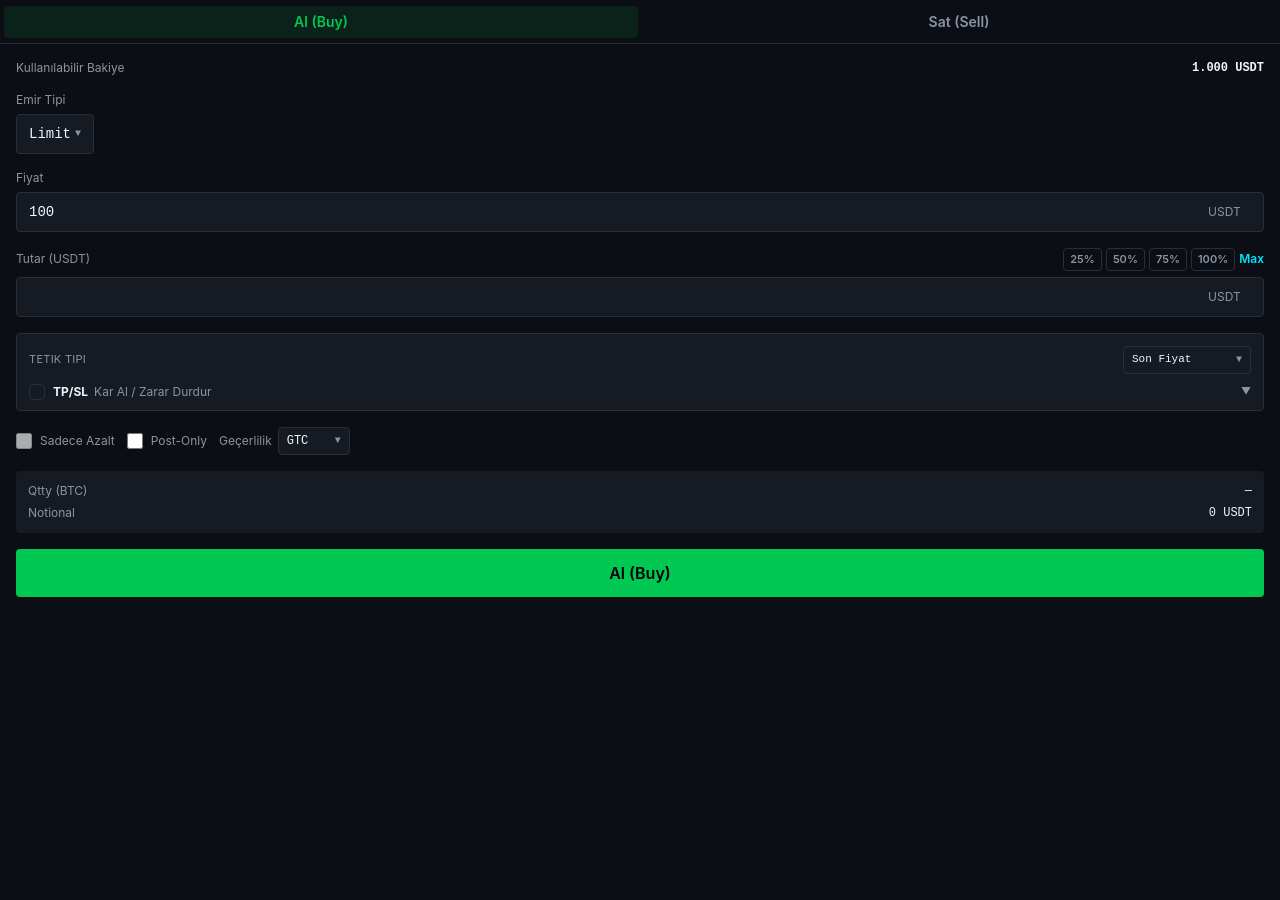
it: TradingPanel spot mode › waits for confirmation when confirmations are enabled
Type "500" into the field named "Order amount".
click(640, 296); type("500")  # box [16,276,1264,316]
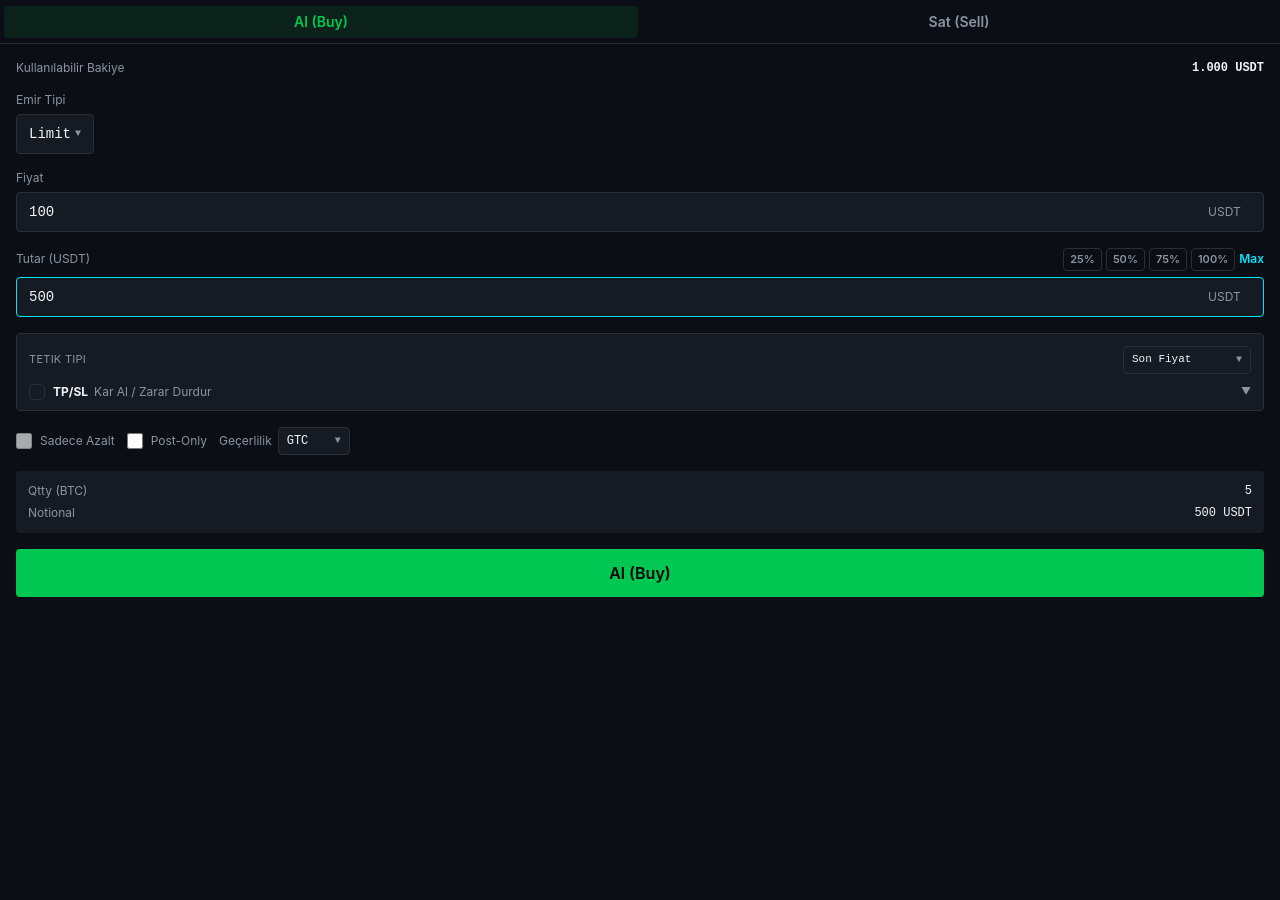
Click the button "Al (Buy)" below "Notional".
click(640, 572)  # box [16,548,1264,596]
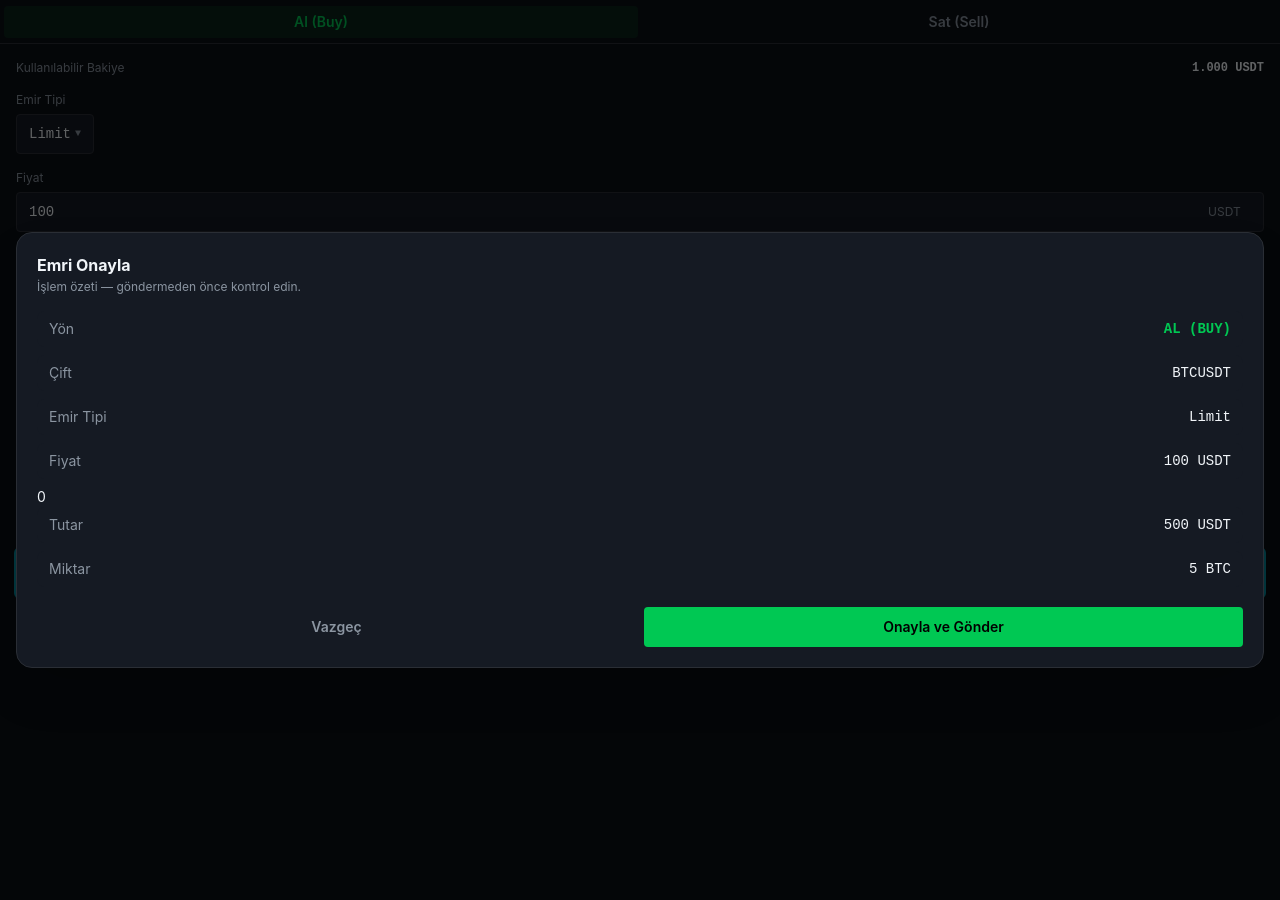
Check: the heading "Emri Onayla" is shown, box [37,255,131,275]
Click the button "Onayla ve Gönder".
click(944, 627)  # box [644,607,1243,647]
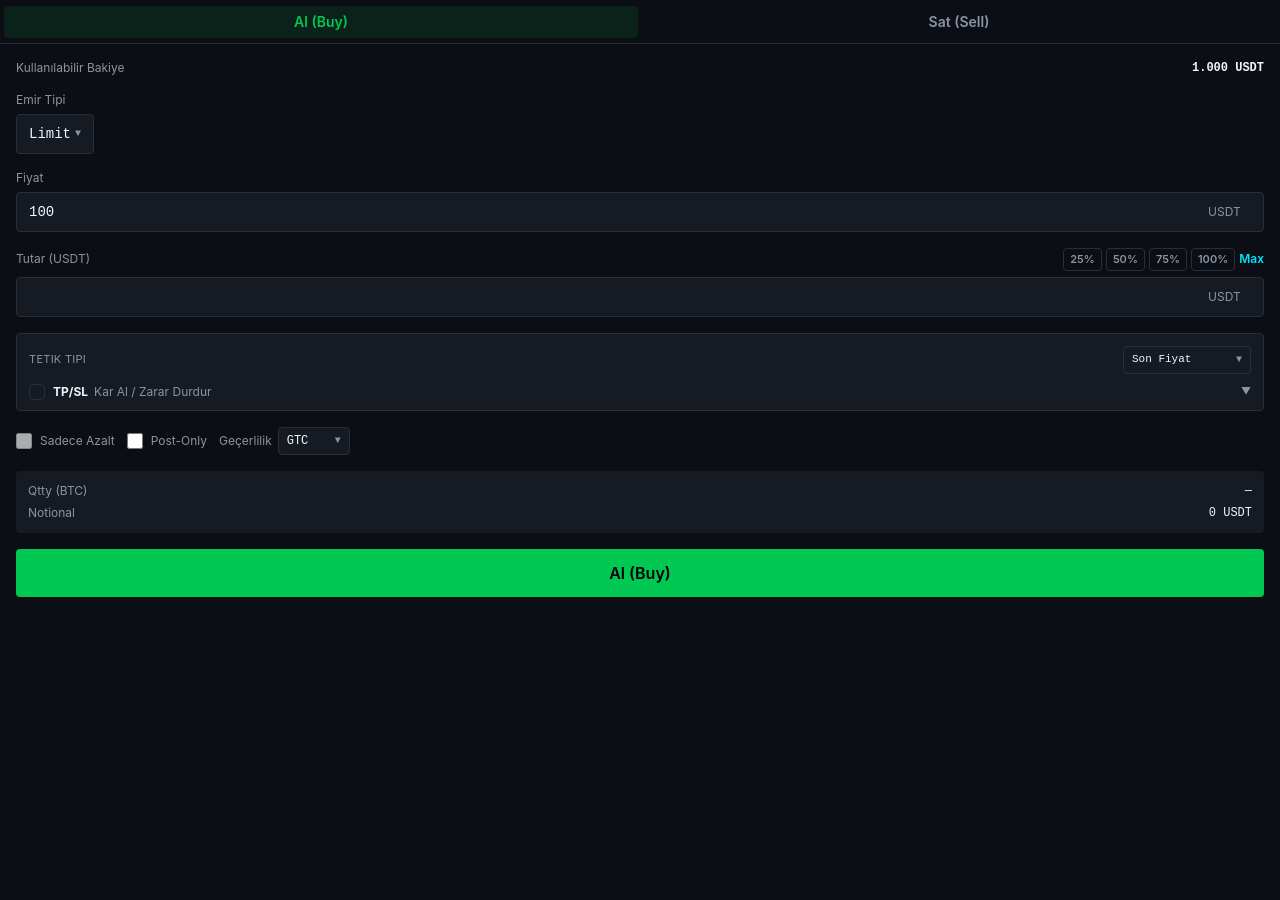
Check: the heading "Emri Onayla" is gone
